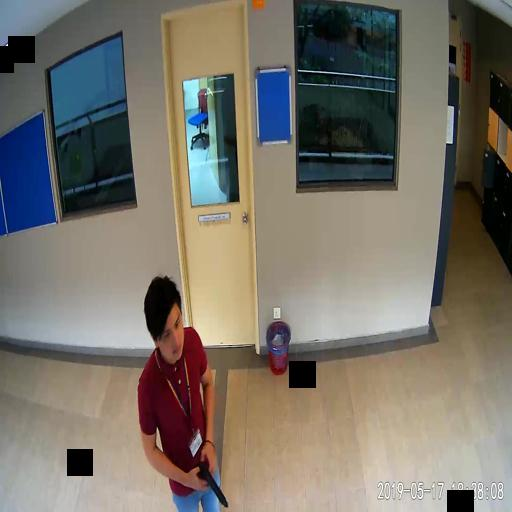Handgun: (195, 458, 227, 506)
